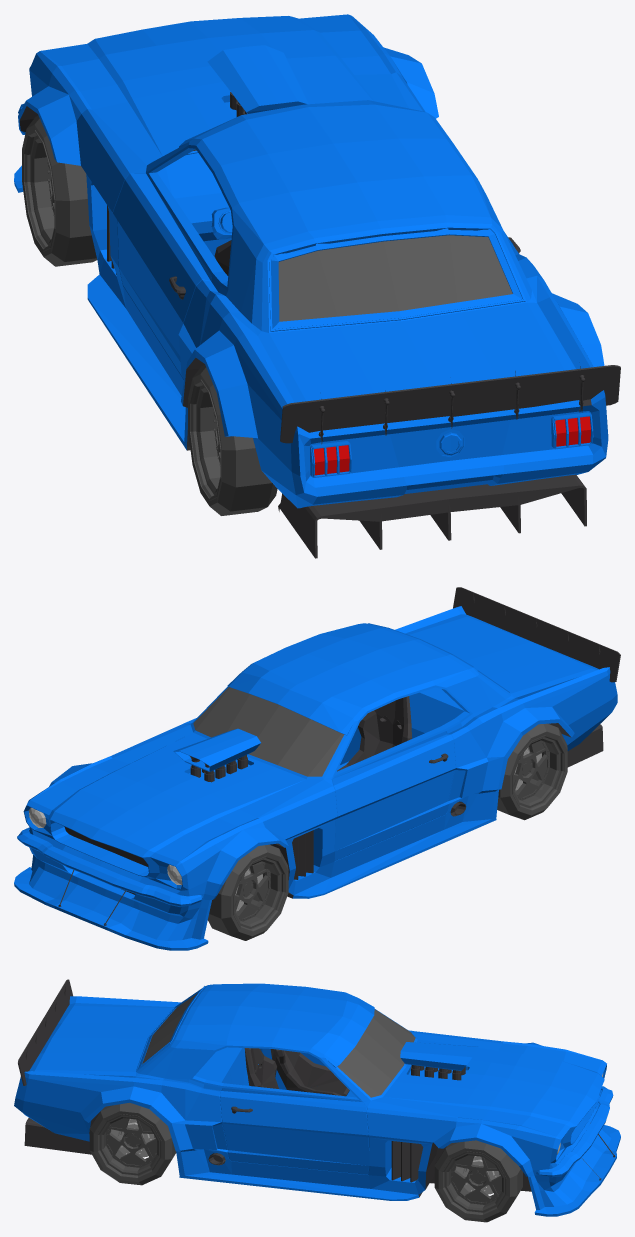
File: mustang.glb
The picture shows the model from 3 angles, top to bottom: view 1: azimuth 30°, elevation 25°; view 2: azimuth 150°, elevation 25°; view 3: azimuth 270°, elevation 25°; orthographic projection. The views are drawn at different scales.
Visible parts, largest first — view 1: Body.002, Trim.001, Glass.002, Tires and wheels, BrakeLights.001; view 2: Body.002, Trim.001, Tires and wheels, Glass.002; view 3: Body.002, Tires and wheels, Trim.001, Glass.002, Disks.
Boxes of the visible parts, bbox=[...] form: Body.002: bbox=[14, 14, 608, 508]; Trim.001: bbox=[19, 92, 620, 558]; Glass.002: bbox=[193, 149, 512, 321]; Tires and wheels: bbox=[22, 115, 277, 515]; BrakeLights.001: bbox=[314, 416, 590, 475]; Body.002: bbox=[14, 606, 617, 950]; Trim.001: bbox=[58, 587, 620, 925]; Tires and wheels: bbox=[208, 723, 567, 940]; Glass.002: bbox=[193, 687, 344, 776]; Body.002: bbox=[14, 983, 620, 1216]; Tires and wheels: bbox=[89, 1102, 522, 1222]; Trim.001: bbox=[18, 979, 615, 1197]; Glass.002: bbox=[142, 993, 415, 1097]; Disks: bbox=[110, 1119, 500, 1194].
Bounding box in the file's own units: 25.91 × 12.06 × 46.15.
